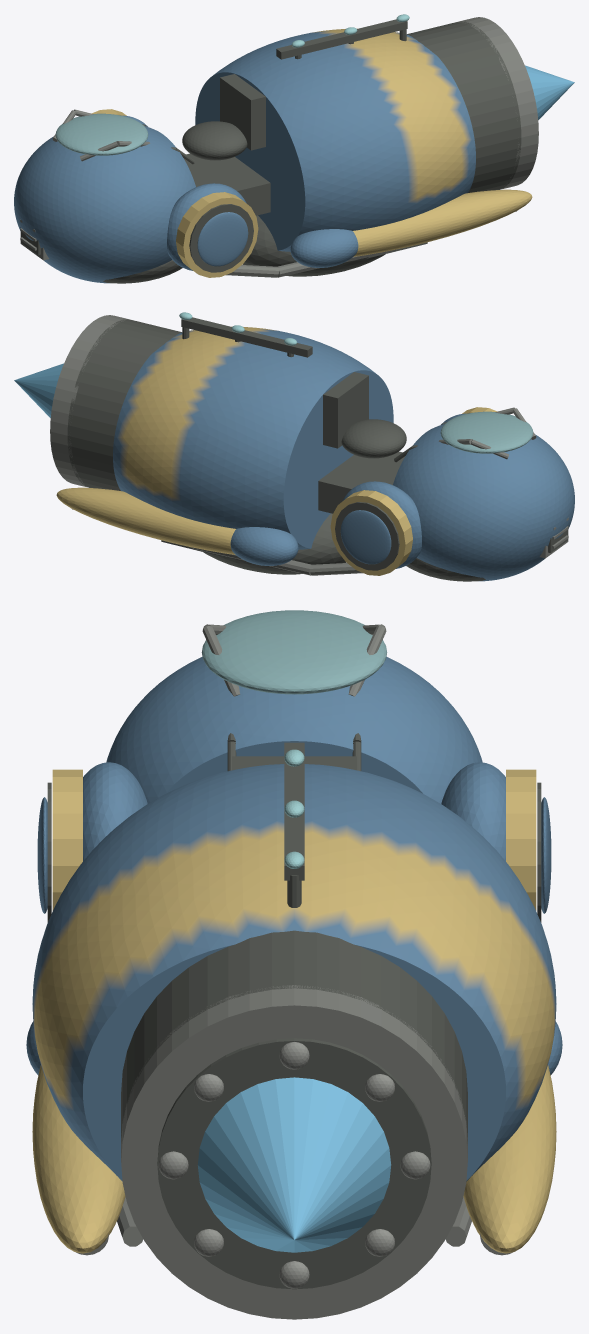
File: unibomba_blue_flight.glb
3 views of the same model, one above another, from view 1: azimuth 30°, elevation 25°; view 2: azimuth 150°, elevation 25°; view 3: azimuth 270°, elevation 25° (orthographic). The views are drawn at different scales.
Visible parts, largest first — view 1: hull_rear_0, nose_1, engine_rear_housing_17, side_skid_12, main_engine_rim_18, windscreen_6, cockpit_chassis_3, seat_back_5, nacelle_gold_rim_9, skid_nose_13, nacelle_hub_11, seat_4 (+8 smaller); view 2: hull_rear_0, nose_1, engine_rear_housing_17, side_skid_12, main_engine_rim_18, windscreen_6, cockpit_chassis_3, seat_back_5, nacelle_gold_rim_9, skid_nose_13, nacelle_hub_11, seat_4 (+8 smaller); view 3: hull_rear_0, main_engine_rim_18, nose_1, main_engine_flame_21, main_engine_dark_interior_19, engine_rear_housing_17, side_skid_12, windscreen_6, nose_side_nacelle_8, nacelle_gold_rim_9, engine_vane_20, nacelle_hub_11 (+7 smaller).
Boxes of the visible parts, x1,y1,x2,y2 form: hull_rear_0: [195, 28, 475, 251]; nose_1: [14, 126, 195, 283]; engine_rear_housing_17: [407, 21, 521, 192]; side_skid_12: [353, 189, 532, 256]; main_engine_rim_18: [455, 17, 538, 189]; windscreen_6: [55, 113, 148, 155]; cockpit_chassis_3: [183, 153, 270, 215]; seat_back_5: [220, 74, 265, 150]; nacelle_gold_rim_9: [91, 109, 258, 277]; skid_nose_13: [290, 229, 358, 267]; nacelle_hub_11: [197, 212, 248, 266]; seat_4: [182, 121, 247, 160]; hull_rear_0: [113, 326, 393, 549]; nose_1: [393, 424, 574, 581]; engine_rear_housing_17: [67, 319, 181, 490]; side_skid_12: [56, 487, 235, 554]; main_engine_rim_18: [50, 315, 129, 487]; windscreen_6: [440, 411, 533, 453]; cockpit_chassis_3: [318, 451, 405, 513]; seat_back_5: [323, 372, 368, 448]; nacelle_gold_rim_9: [330, 407, 497, 575]; skid_nose_13: [230, 527, 298, 565]; nacelle_hub_11: [340, 510, 391, 564]; seat_4: [341, 419, 406, 458]; hull_rear_0: [32, 764, 556, 1181]; main_engine_rim_18: [121, 985, 467, 1319]; nose_1: [106, 656, 482, 803]; main_engine_flame_21: [197, 1077, 391, 1252]; main_engine_dark_interior_19: [157, 1038, 431, 1289]; engine_rear_housing_17: [121, 930, 467, 1143]; side_skid_12: [32, 1065, 556, 1253]; windscreen_6: [201, 610, 387, 694]; nose_side_nacelle_8: [83, 762, 505, 861]; nacelle_gold_rim_9: [52, 769, 536, 910]; engine_vane_20: [158, 1042, 430, 1288]; nacelle_hub_11: [37, 797, 551, 913].
Size of the model in its own units: 6.28 by 2.47 by 2.66.
